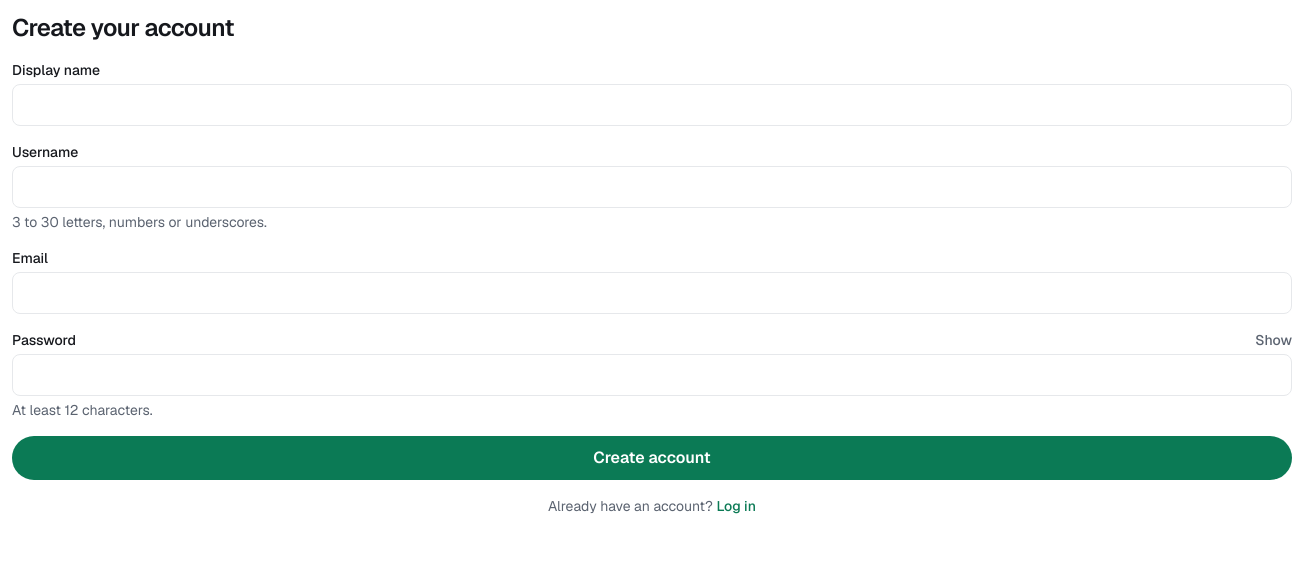
Test case: RegisterForm › explains a rejection without a field for the whole form
Type "  Test Viewer " into the field labelled "Display name" at (652, 105), box [12,84,1292,126]
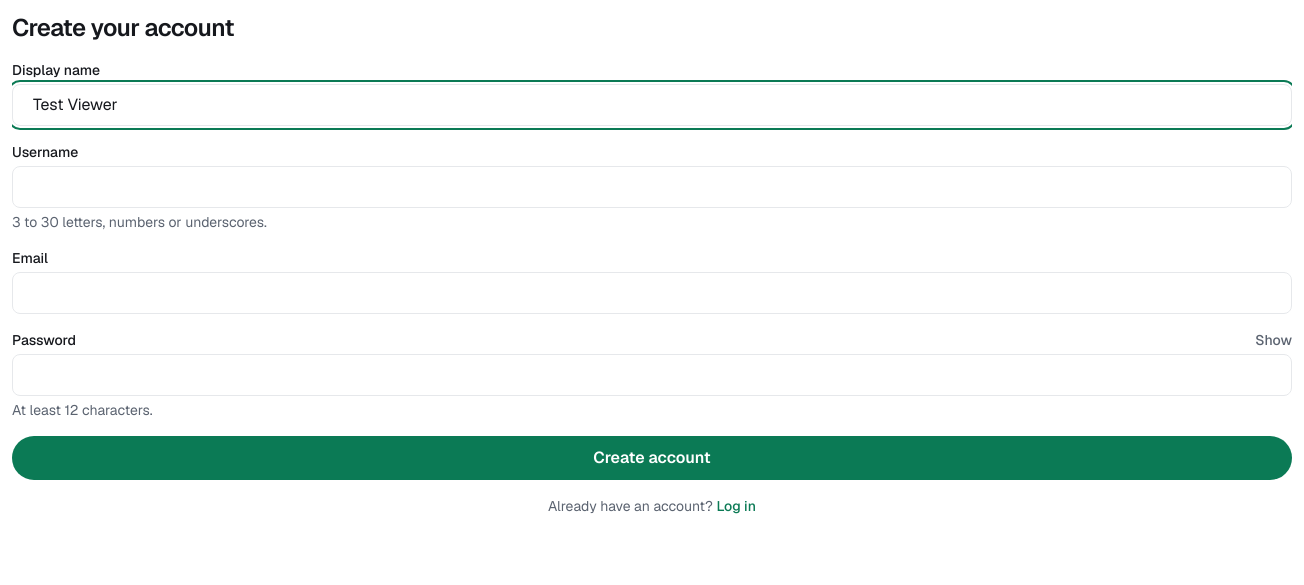
Type " test_viewer " into the field labelled "Username" at (652, 187), box [12,166,1292,208]
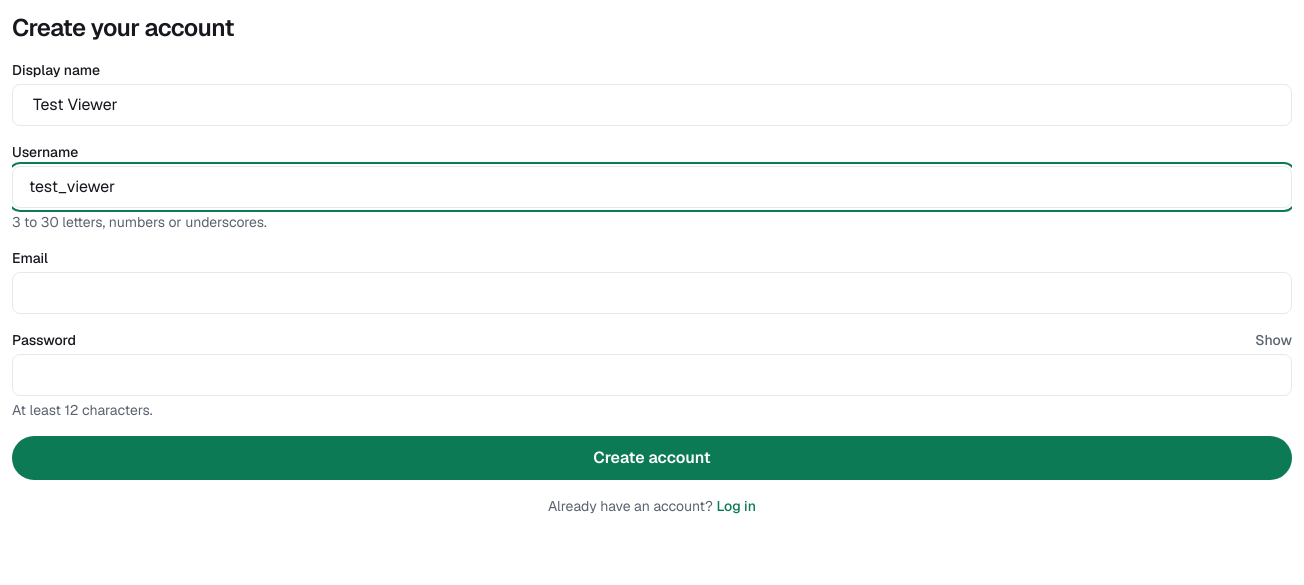
Type " test_viewer@example.com " into the field labelled "Email" at (652, 293), box [12,272,1292,314]
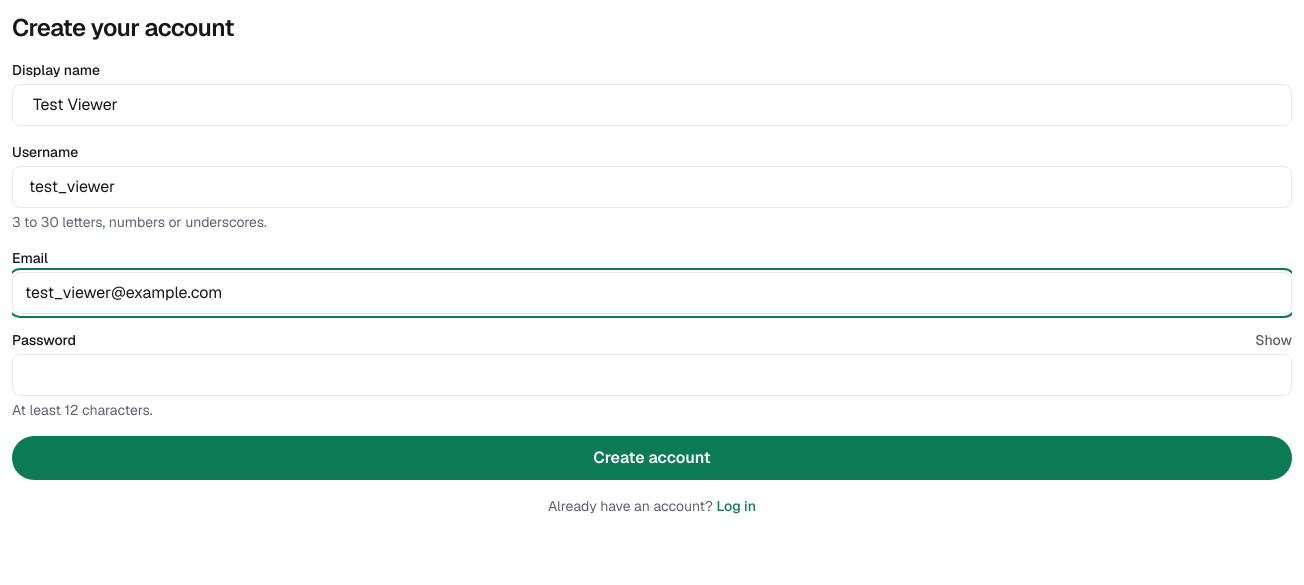
Type " a long password " into the password field labelled "Password" at (652, 375), box [12,354,1292,396]
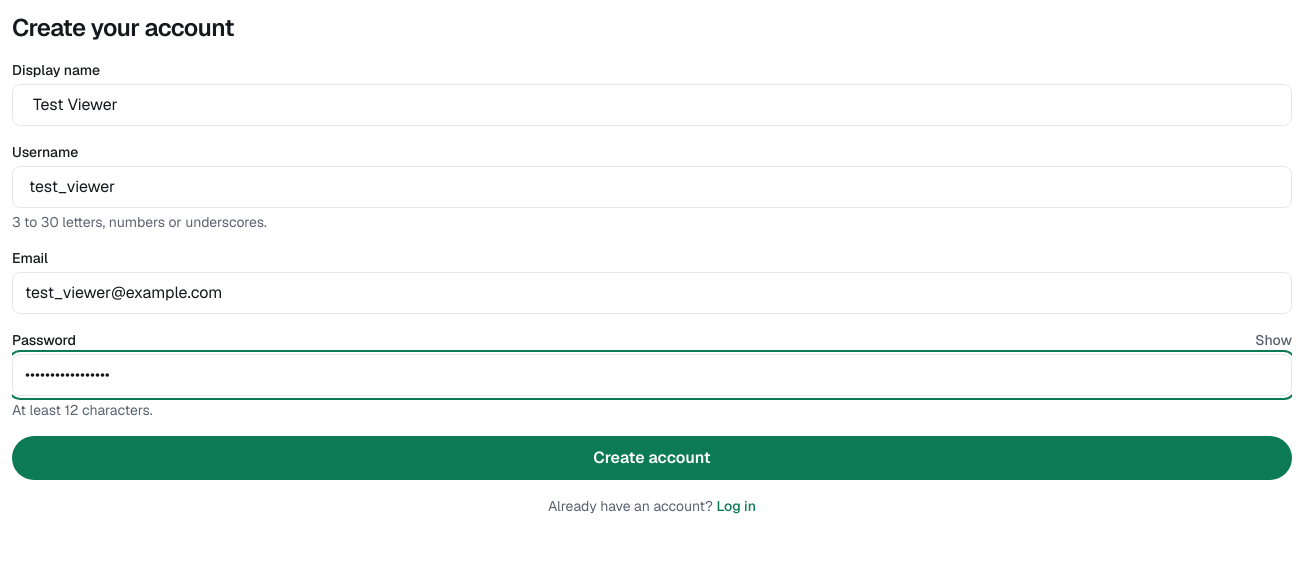
Click the button "Create account" at (652, 458), box [12,436,1292,480]
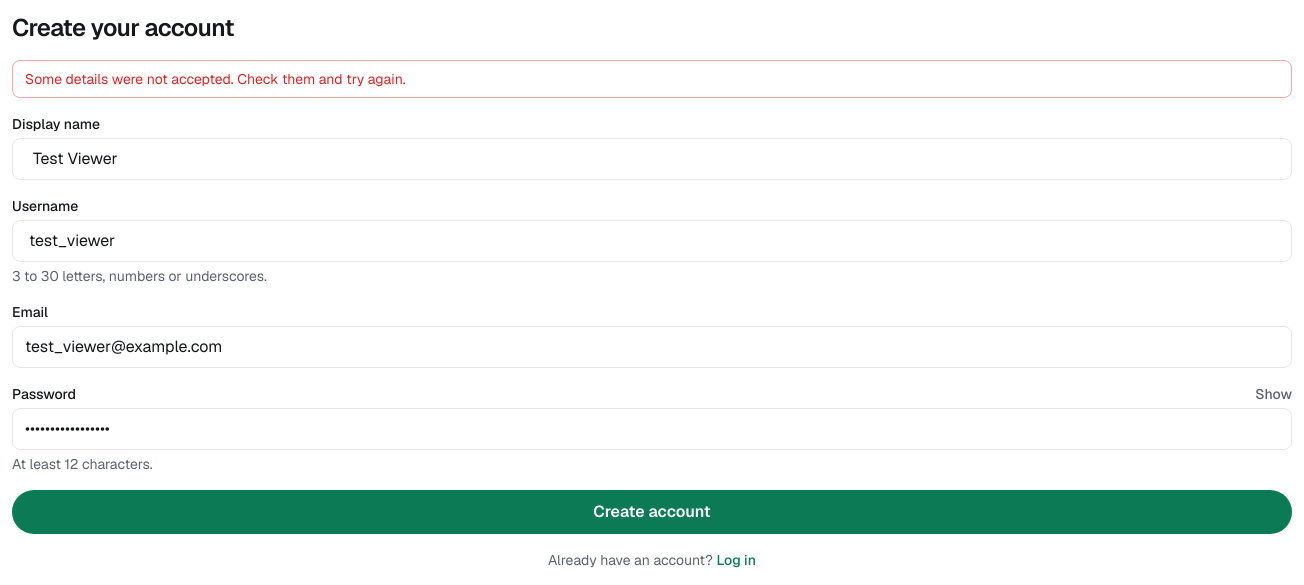
Check: the button "Create account" is enabled, box [12,490,1292,534]
Check: the message reads "Some details were not accepted. Check them and try again.", box [25,70,406,88]
